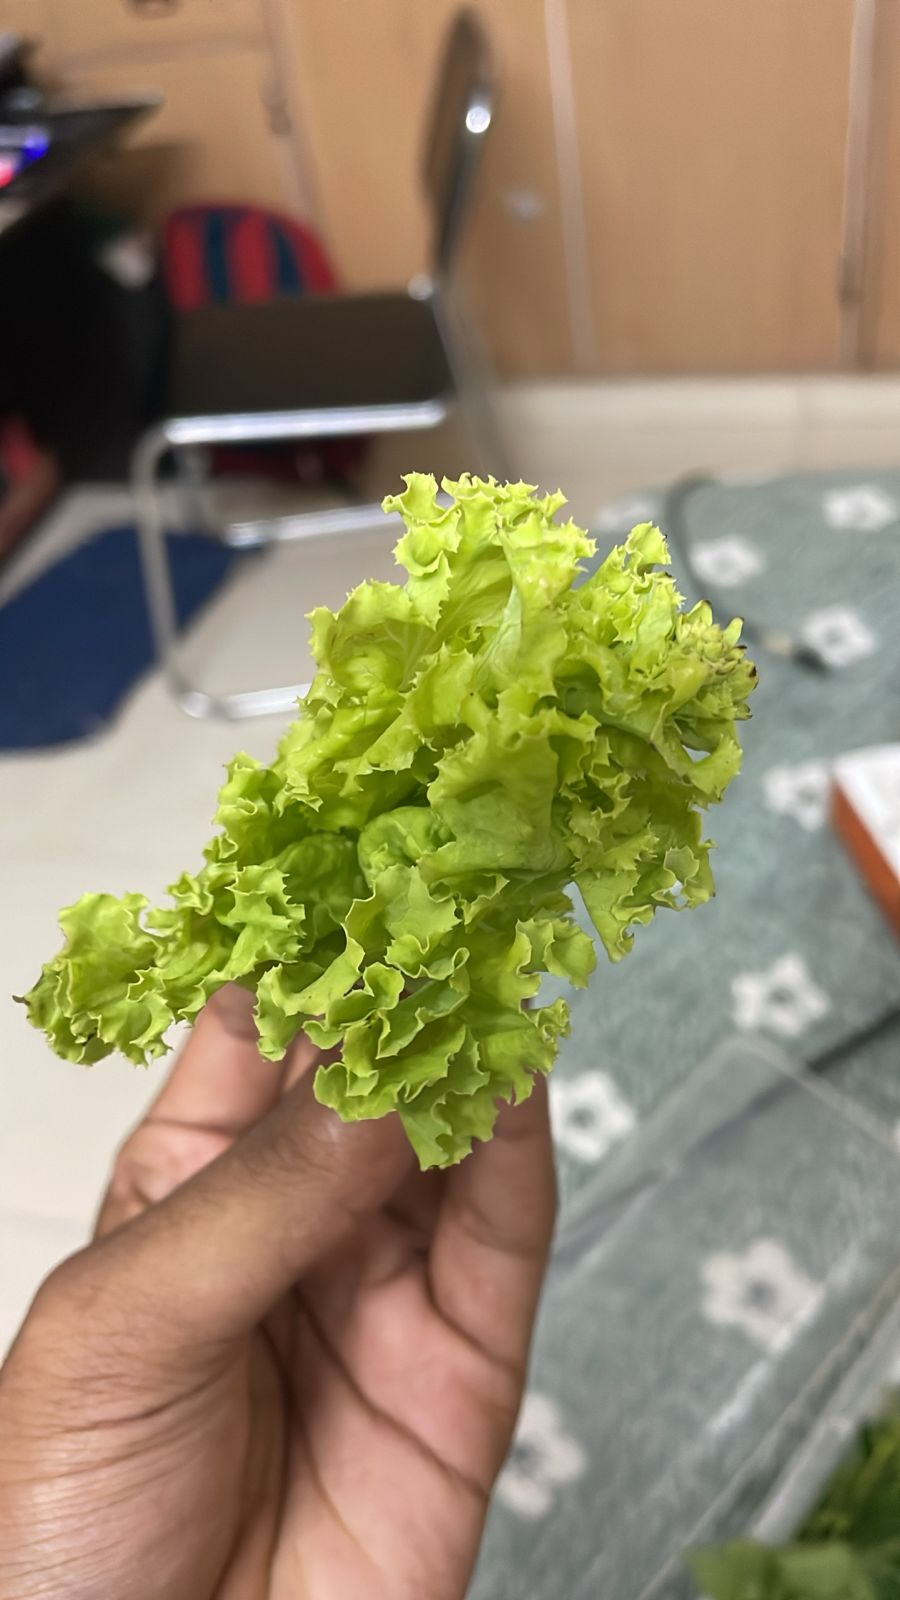wet: (190, 441, 748, 1090)
